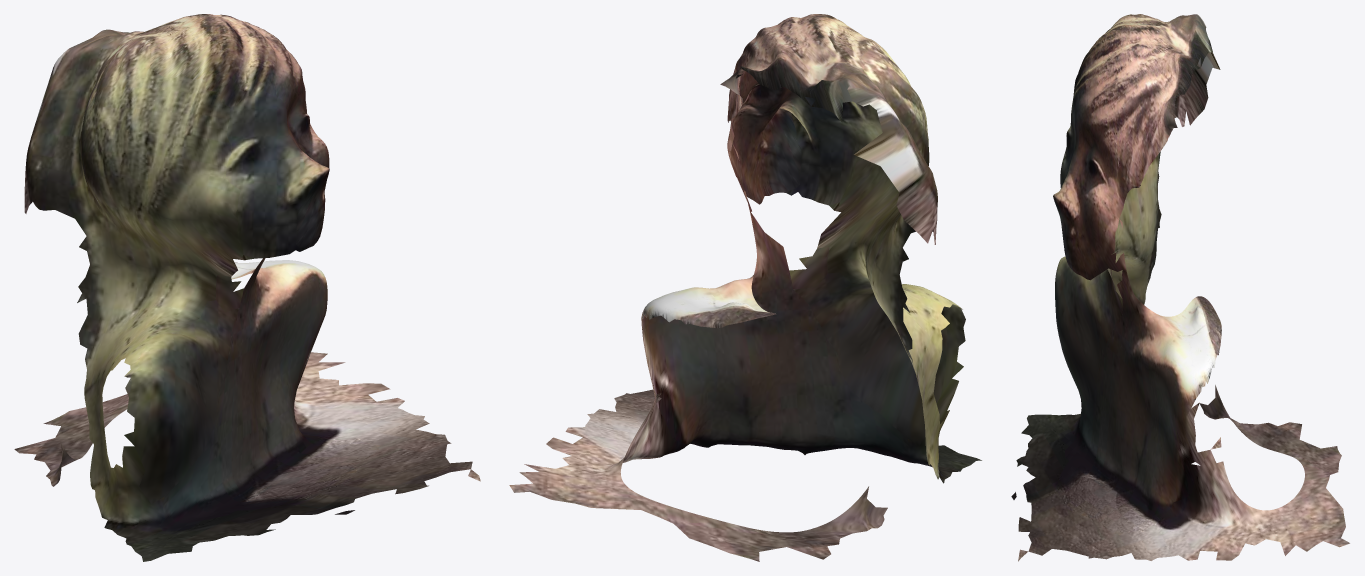
File: krakerigeKop.obj
3 views of the same model, side by side, from view 1: azimuth 30°, elevation 25°; view 2: azimuth 150°, elevation 25°; view 3: azimuth 270°, elevation 25° (orthographic). The views are drawn at different scales.
Parts seen in each view (by area): view 1: krakerigeKop; view 2: krakerigeKop; view 3: krakerigeKop.
Boxes of the visible parts, x1,y1,x2,y2 form: krakerigeKop: (14, 14, 480, 561); krakerigeKop: (509, 14, 981, 561); krakerigeKop: (1011, 14, 1349, 561).
Bounding box in the file's own units: 13.73 × 16.32 × 11.39.
Materials: 1 (1 with a texture image).
